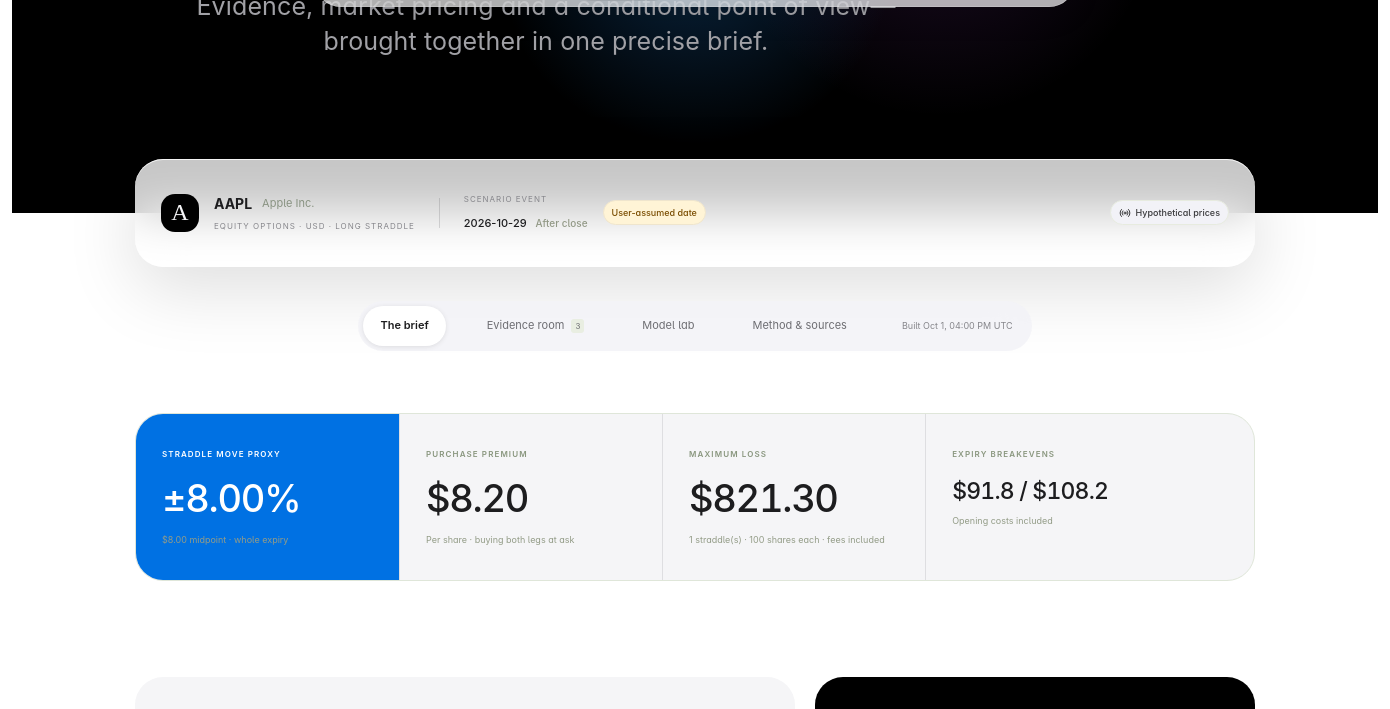
Test: research desk interactions › opens real source links in the evidence room
(page scrolled)
expect the text "Hypothetical prices" is shown: met, box [1110,200,1229,225]
Click the tab "Evidence room3" at (536, 326), box [470,306,601,346]
(page scrolled)
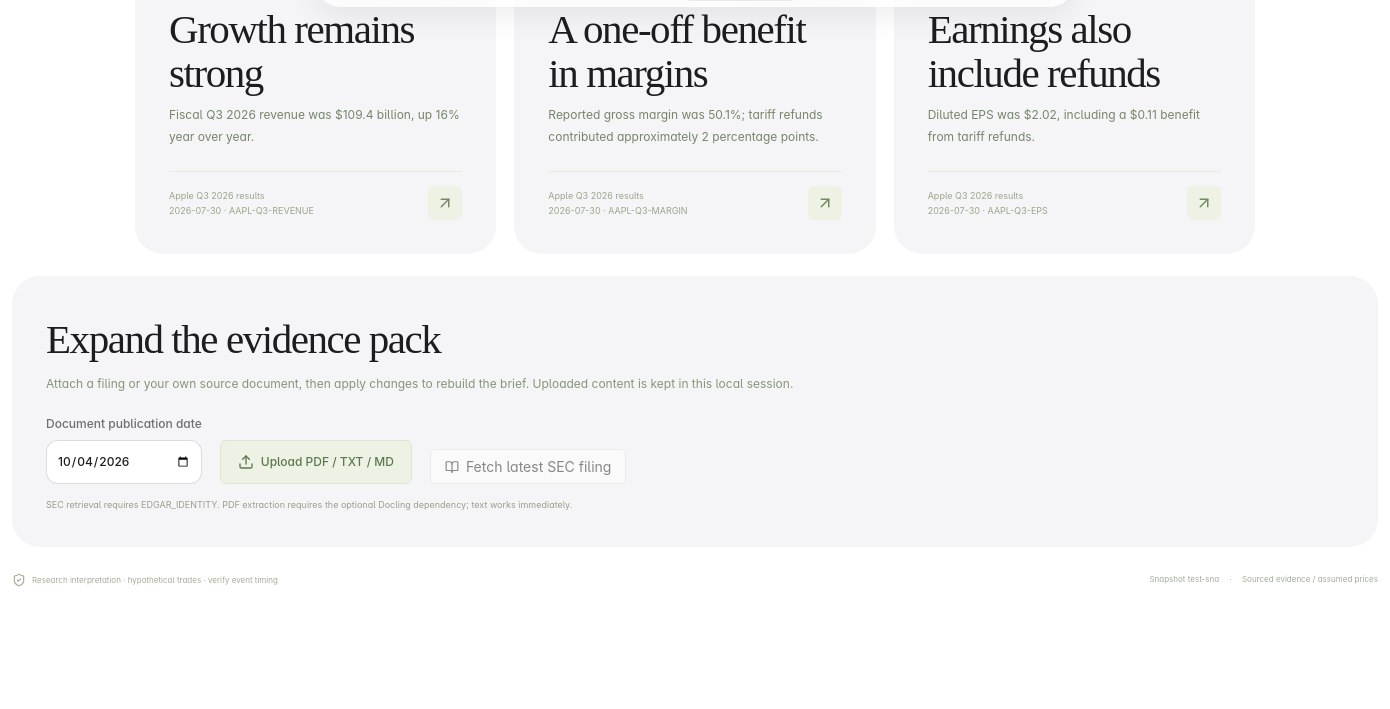
expect the heading "Expand the evidence pack" is shown: met, box [46,316,440,362]
